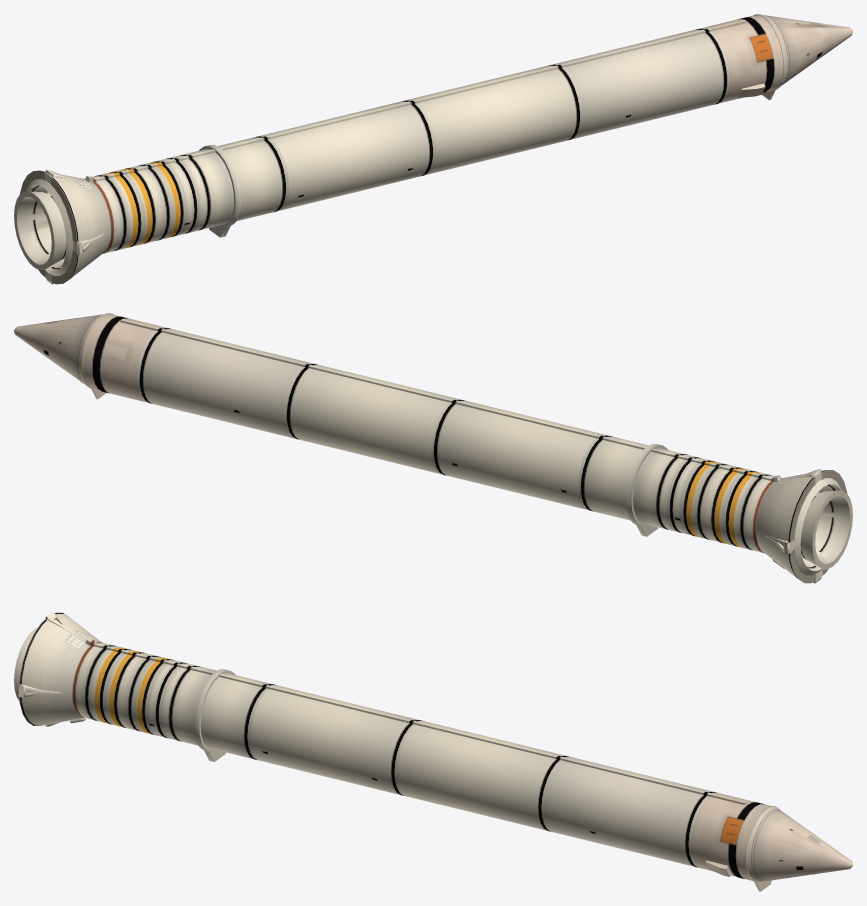
Rendered from Solid Rocket Booster.glb.
3 views of the same model, one above another, from view 1: azimuth 30°, elevation 25°; view 2: azimuth 150°, elevation 25°; view 3: azimuth 330°, elevation 25° (orthographic).
Visible parts, largest first — view 1: srb.layer1; view 2: srb.layer1; view 3: srb.layer1.
Part boxes in pixels (bbox=[...]): srb.layer1: bbox=[14, 14, 852, 284]; srb.layer1: bbox=[14, 313, 852, 583]; srb.layer1: bbox=[14, 612, 852, 891].
Size of the model in its own units: 1781 by 229 by 229.
1 material, 1 textured.
